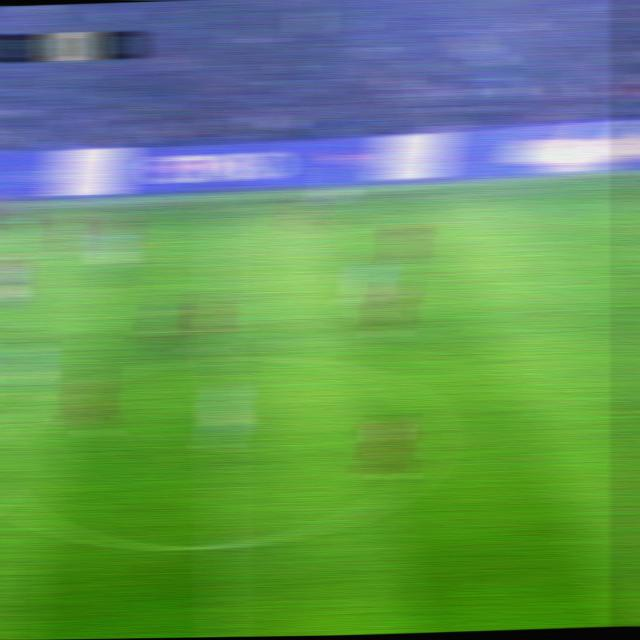halfcircle_bottom: (199, 524, 242, 566)
halfcircle_top: (195, 338, 240, 374)
midline_top_intersection: (199, 195, 234, 224)
